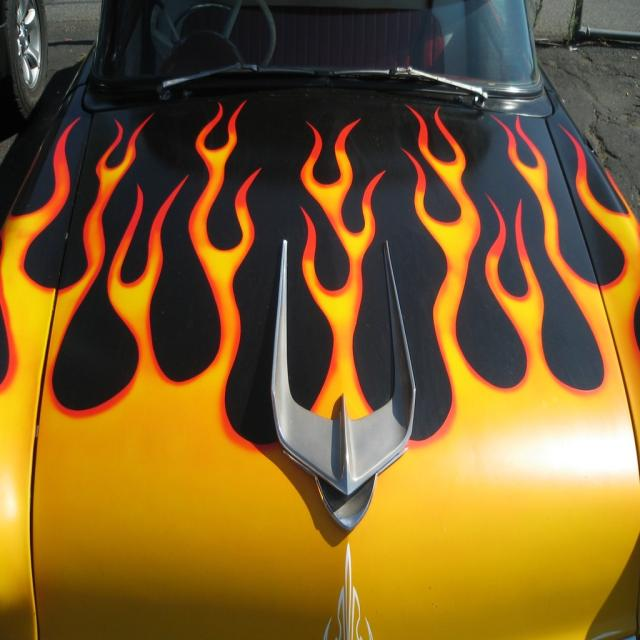car: (30, 15, 611, 638)
